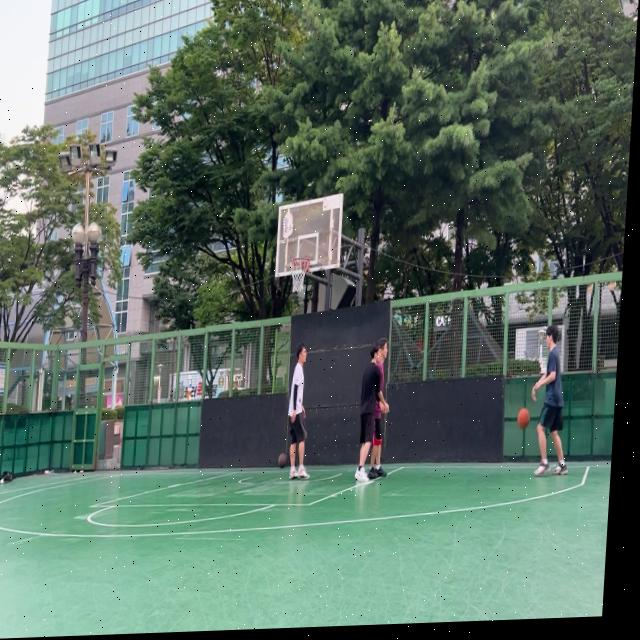basketball: (517, 408, 530, 429), (278, 453, 287, 469)
hoop: (288, 257, 310, 294)
